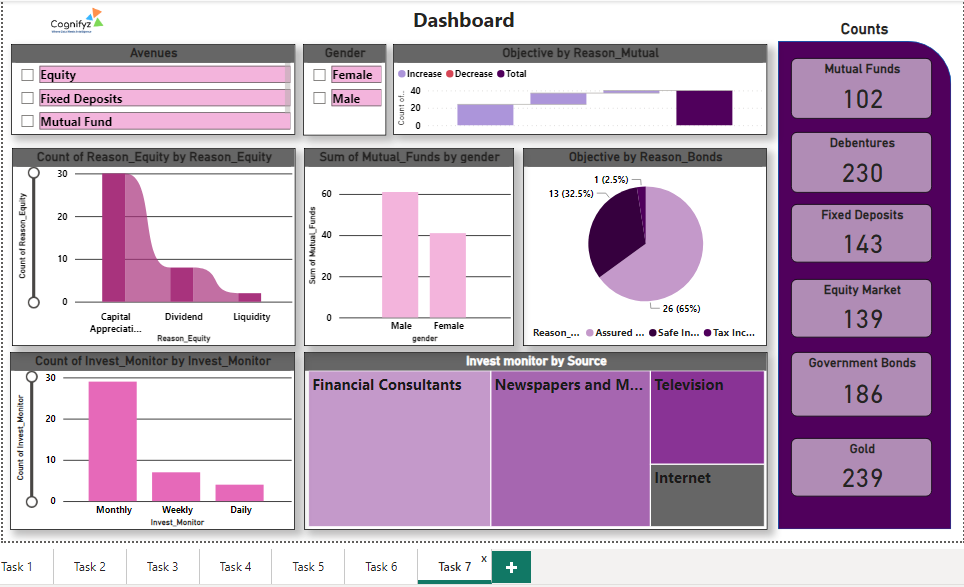

The dashboard page shown, as its layout file describes it:
{"tool":"powerbi","page":{"name":"Task 7","canvas":[1280,720],"ordinal":6},"visuals":[{"type":"shape","title":"Counts","box":[1033.1,25.7,231.2,679.2],"z":0},{"type":"image","box":[0,0,194.7,57.3],"z":1000},{"type":"card","title":"Mutual Funds","fields":{"Values":["Sum(Data_set 2.Mutual_Funds)"]},"box":[1050.3,75.6,188.4,81.3],"z":2000},{"type":"card","title":"Equity Market","fields":{"Values":["Sum(Data_set 2.Equity_Market)"]},"box":[1050.3,371,188.4,78.5],"z":3000},{"type":"card","title":"Debentures","fields":{"Values":["Sum(Data_set 2.Debentures)"]},"box":[1050.3,174.1,188.4,81.3],"z":4000},{"type":"card","title":"Government Bonds","fields":{"Values":["Sum(Data_set 2.Government_Bonds)"]},"box":[1050.3,468,188.4,85.6],"z":5000},{"type":"card","title":"Gold","fields":{"Values":["Sum(Data_set 2.Gold)"]},"box":[1050.3,582.2,188.4,78.5],"z":6000},{"type":"card","title":"Fixed Deposits","fields":{"Values":["Sum(Data_set 2.Fixed_Deposits)"]},"box":[1050.3,271.1,188.4,78.5],"z":7000},{"type":"treemap","title":"Invest monitor by Source","fields":{"Group":["Data_set 2.Source"],"Values":["CountNonNull(Data_set 2.Invest_Monitor)"]},"box":[401,468,617.9,236.9],"z":7001},{"type":"pieChart","title":"Objective by Reason_Bonds","fields":{"Category":["Data_set 2.Reason_Bonds"],"Y":["CountNonNull(Data_set 2.Reason_Bonds)"]},"box":[693.5,195.5,325.4,264],"z":7002},{"type":"clusteredColumnChart","fields":{"Category":["Data_set 2.Invest_Monitor"],"Y":["CountNonNull(Data_set 2.Invest_Monitor)"]},"box":[10,468,379.6,236.9],"z":7003},{"type":"ribbonChart","fields":{"Category":["Data_set 2.Reason_Equity"],"Y":["CountNonNull(Data_set 2.Reason_Equity)"]},"box":[11.4,195.5,378.1,264],"z":7004},{"type":"clusteredColumnChart","fields":{"Category":["Data_set 2.gender"],"Y":["Sum(Data_set 2.Mutual_Funds)"]},"box":[401,195.5,279.7,264],"z":7005},{"type":"slicer","title":"Avenues","fields":{"Values":["Data_set 2.Avenue"]},"box":[10.7,57.3,378.7,121.3],"z":7006},{"type":"textbox","box":[540.8,0,169.8,45.7],"z":7008},{"type":"slicer","title":"Gender","fields":{"Values":["Data_set 2.gender"]},"box":[400.4,57.2,110.8,121.6],"z":7009},{"type":"waterfallChart","title":"Objective by Reason_Mutual","fields":{"Category":["Data_set 2.Reason_Mutual"],"Y":["CountNonNull(Data_set 2.Reason_Mutual)"]},"box":[520,57.3,498.7,121.3],"z":7010}]}

Visuals, with their boxes in screenshot pixels (x1, y1, x2, y2):
"Counts" shape: locate(775, 19, 947, 524)
image: locate(8, 0, 152, 43)
"Mutual Funds" card: locate(788, 56, 928, 117)
"Equity Market" card: locate(788, 276, 928, 334)
"Debentures" card: locate(788, 129, 928, 190)
"Government Bonds" card: locate(788, 348, 928, 411)
"Gold" card: locate(788, 432, 928, 491)
"Fixed Deposits" card: locate(788, 201, 928, 260)
"Invest monitor by Source" treemap: locate(305, 348, 764, 524)
"Objective by Reason_Bonds" pieChart: locate(523, 145, 764, 341)
clusteredColumnChart - Data_set 2.Invest_Monitor x CountNonNull(Data_set 2.Invest_Monitor): locate(15, 348, 297, 524)
ribbonChart - Data_set 2.Reason_Equity x CountNonNull(Data_set 2.Reason_Equity): locate(16, 145, 297, 341)
clusteredColumnChart - Data_set 2.gender x Sum(Data_set 2.Mutual_Funds): locate(305, 145, 513, 341)
"Avenues" slicer: locate(15, 43, 297, 133)
textbox: locate(409, 0, 535, 34)
"Gender" slicer: locate(305, 42, 387, 133)
"Objective by Reason_Mutual" waterfallChart: locate(394, 43, 764, 133)
